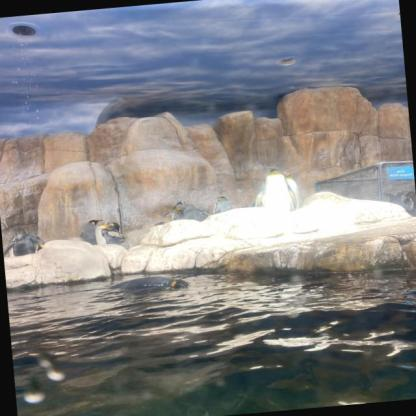penguin: (252, 166, 296, 216), (107, 272, 189, 294), (2, 230, 45, 260), (282, 168, 301, 210), (79, 218, 106, 247), (95, 221, 123, 245), (182, 200, 210, 223), (163, 199, 186, 222), (210, 195, 233, 215), (401, 190, 415, 218), (393, 188, 403, 204), (383, 192, 395, 204)
